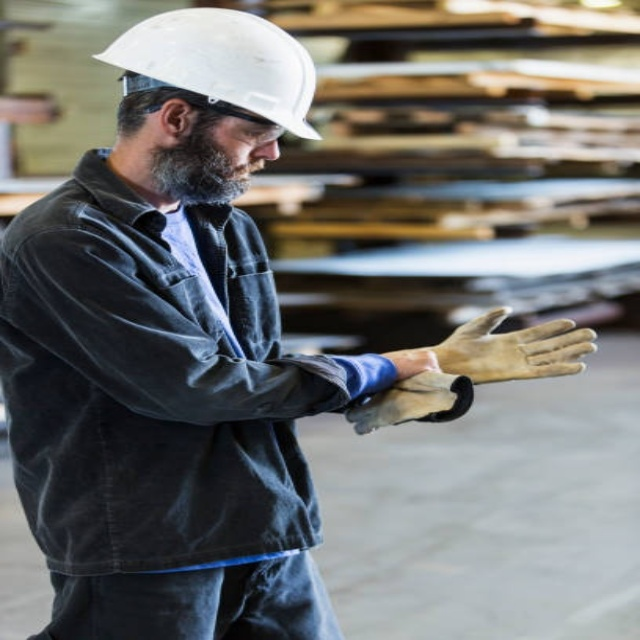Gafas: (202, 104, 287, 148)
Guantes: (416, 305, 599, 393)
Sin_mascara: (205, 159, 268, 198)
